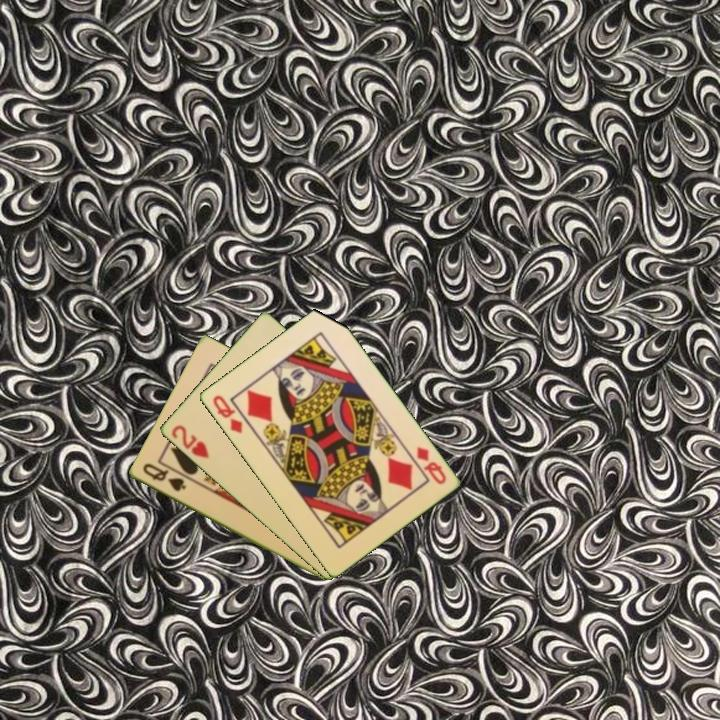2h: (167, 421, 212, 461)
Qd: (412, 443, 449, 488), (209, 391, 245, 436)
Qs: (139, 460, 189, 494)
